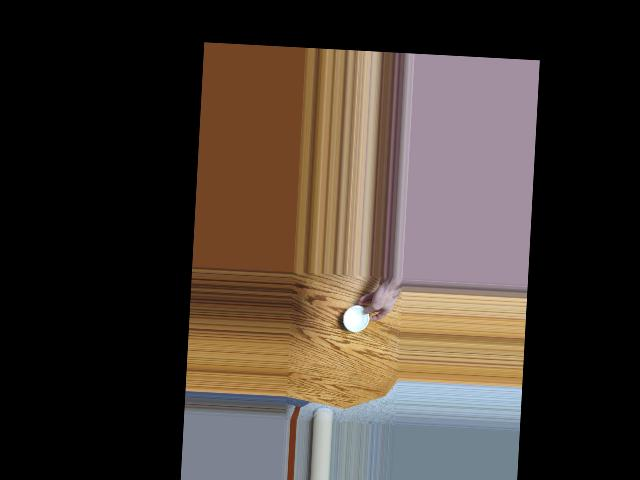cotage: (341, 303, 370, 332)
